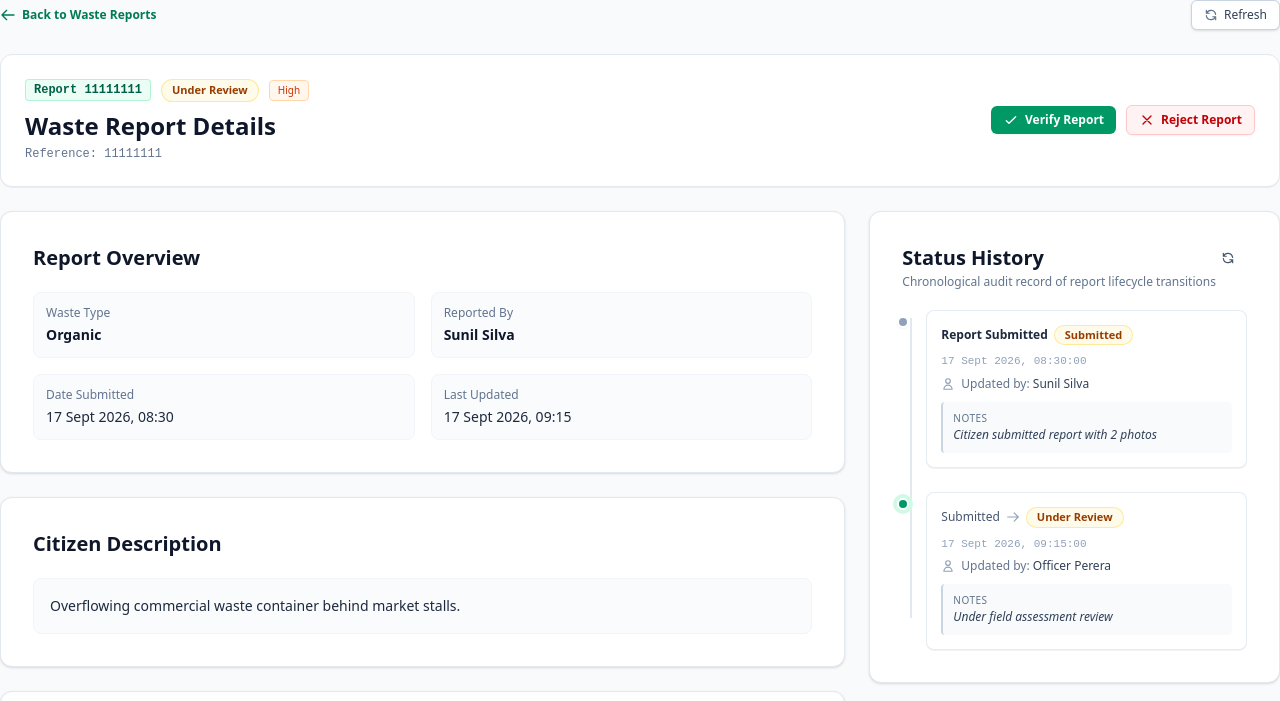
Scenario: WasteReportDetailPage › handles 409 Conflict race condition for Verify Report: displays friendly message and refetches latest state
This screenshot has width=1280, height=701.
Click the button with test id "verify-report-button" at x=1054, y=120, box left=991, top=106, right=1116, bottom=134
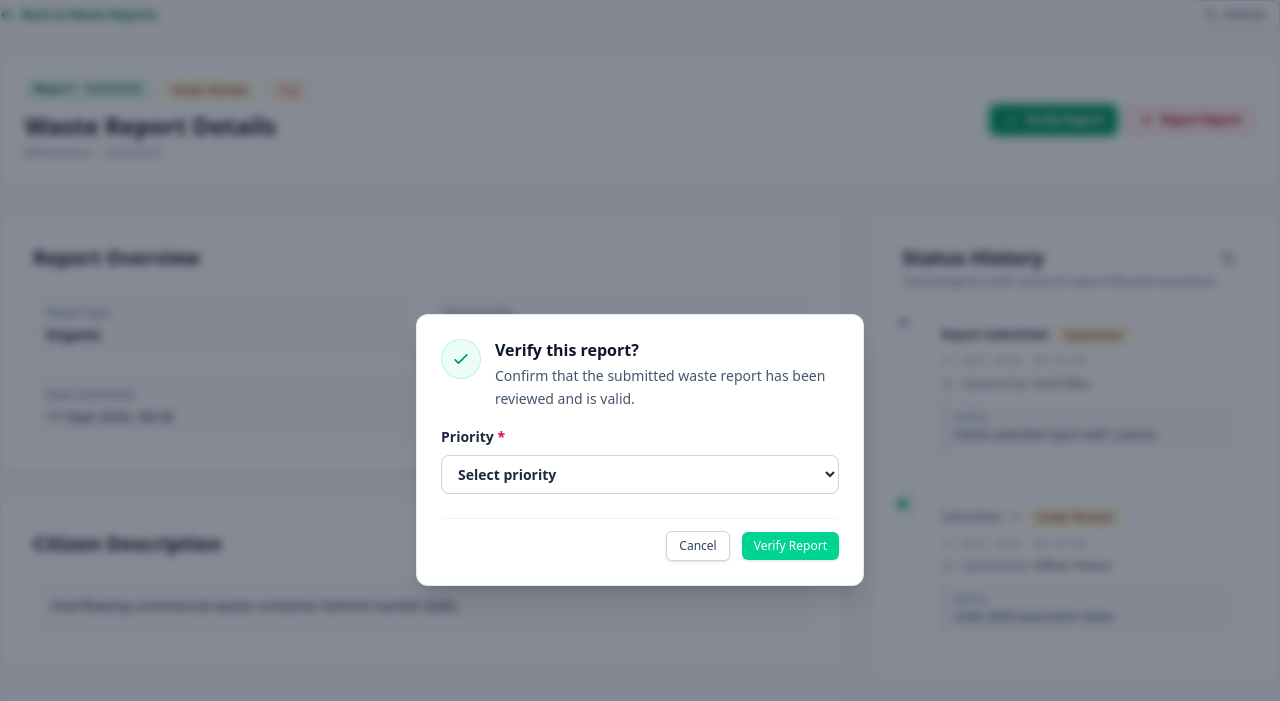
Select "Low" in the dropdown named "verification priority" at x=640, y=474, box left=441, top=455, right=839, bottom=494
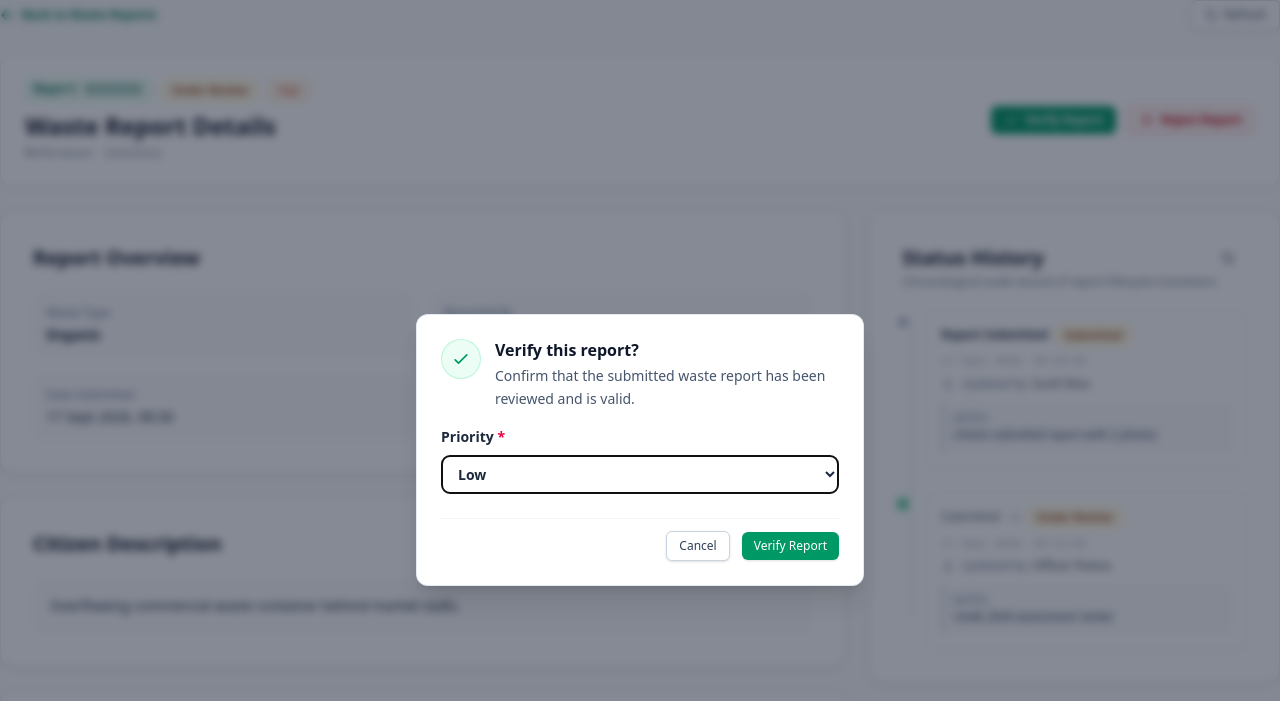
Select "High" in the dropdown named "Verification priority" at x=640, y=474, box left=441, top=455, right=839, bottom=494
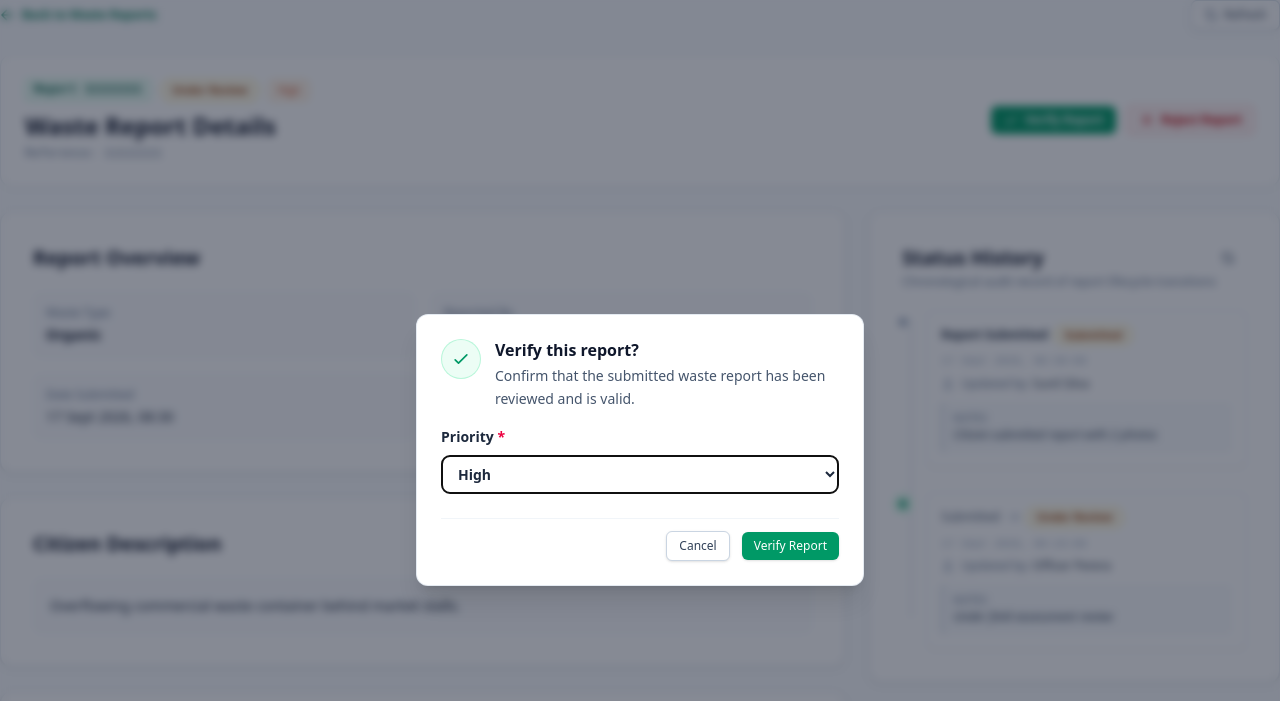
Click the button with test id "confirm-verify-report-button" at x=790, y=546, box left=742, top=532, right=839, bottom=560
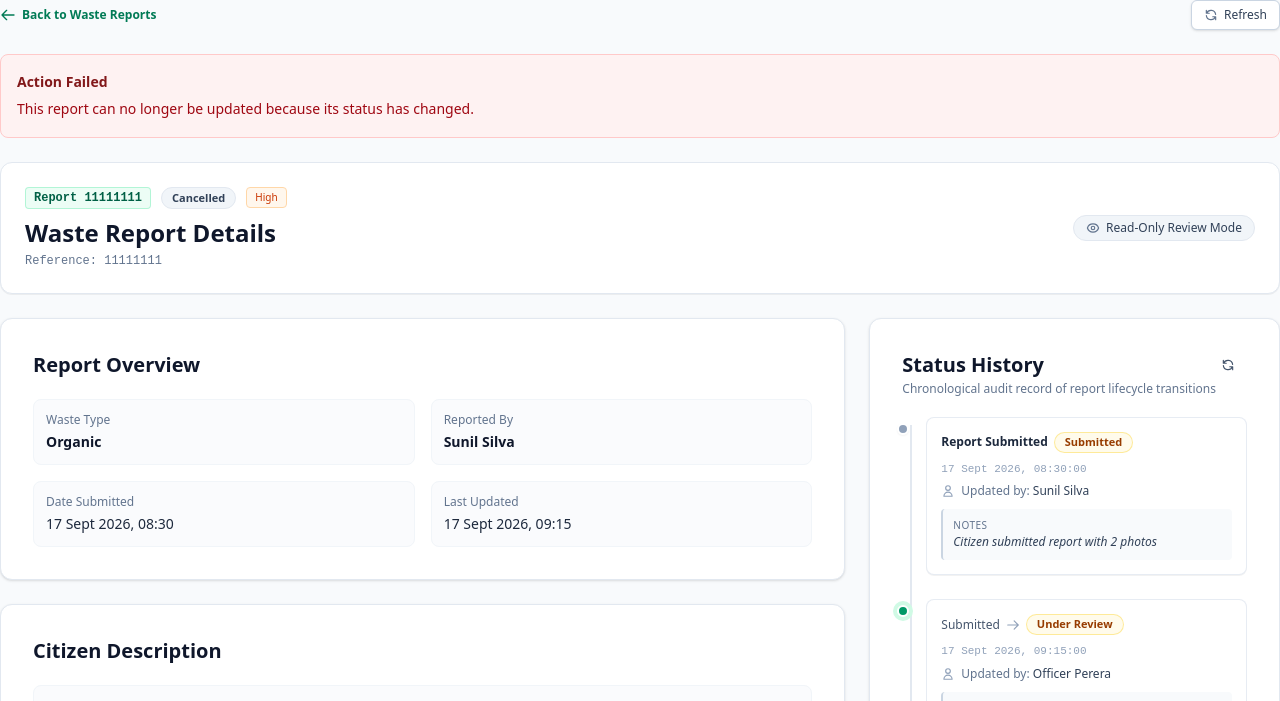
Expected: the text "This report can no longer be updated because its status has changed." is shown, left=17, top=99, right=474, bottom=118
